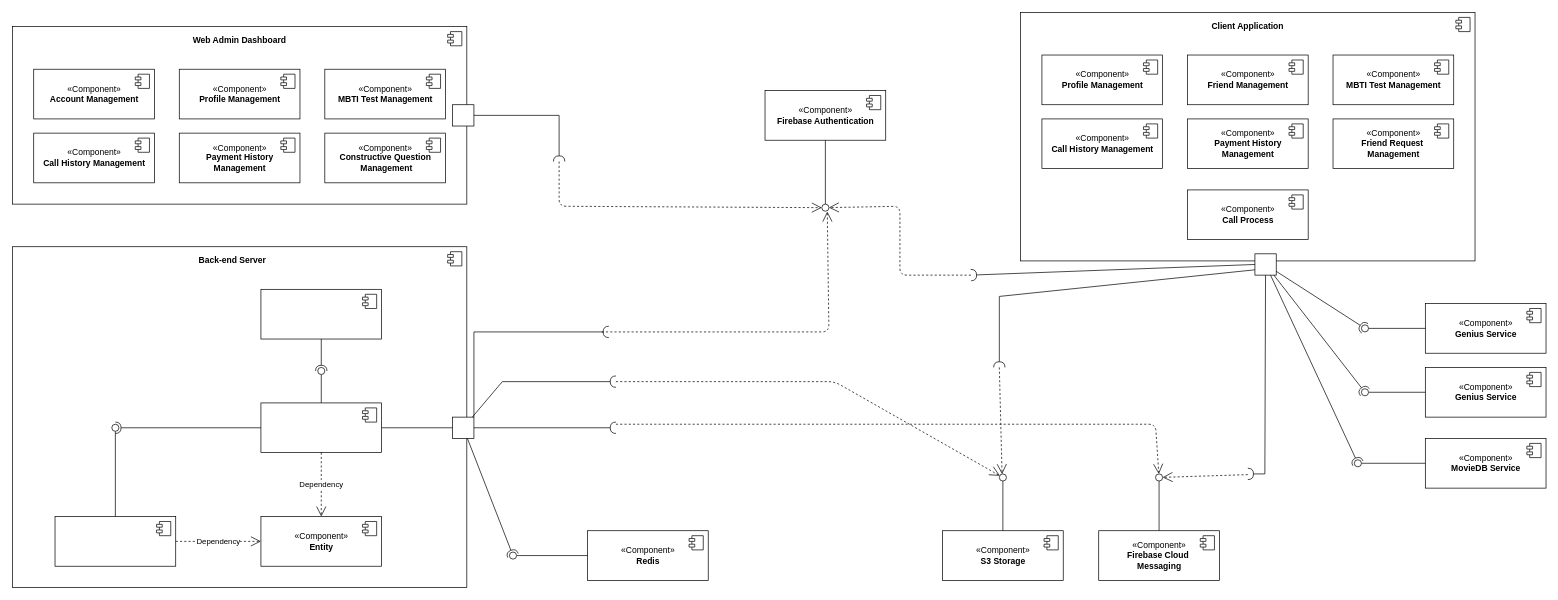
This 1558x600 diagram has some shape labels left out. Here are the shapes that lost their labels. From the top down, the box of each, then its label:
(260, 289, 382, 339): «Component» Controller
(260, 402, 382, 453): «Component» Service
(54, 516, 176, 566): «Component» Repository
